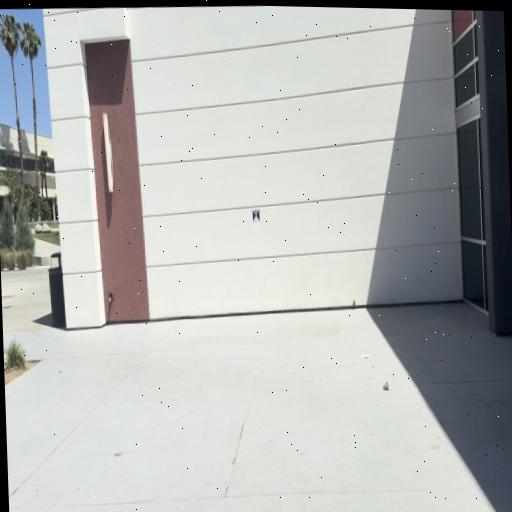target0: (251, 207, 260, 223)
